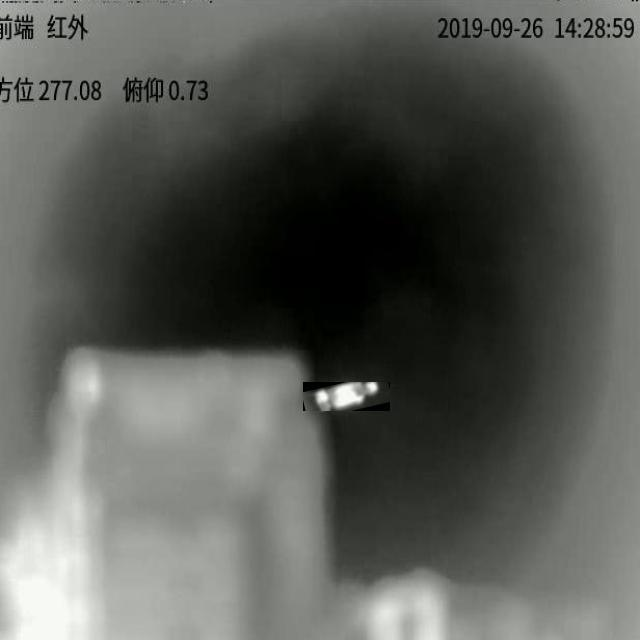drone: (303, 382, 378, 411)
